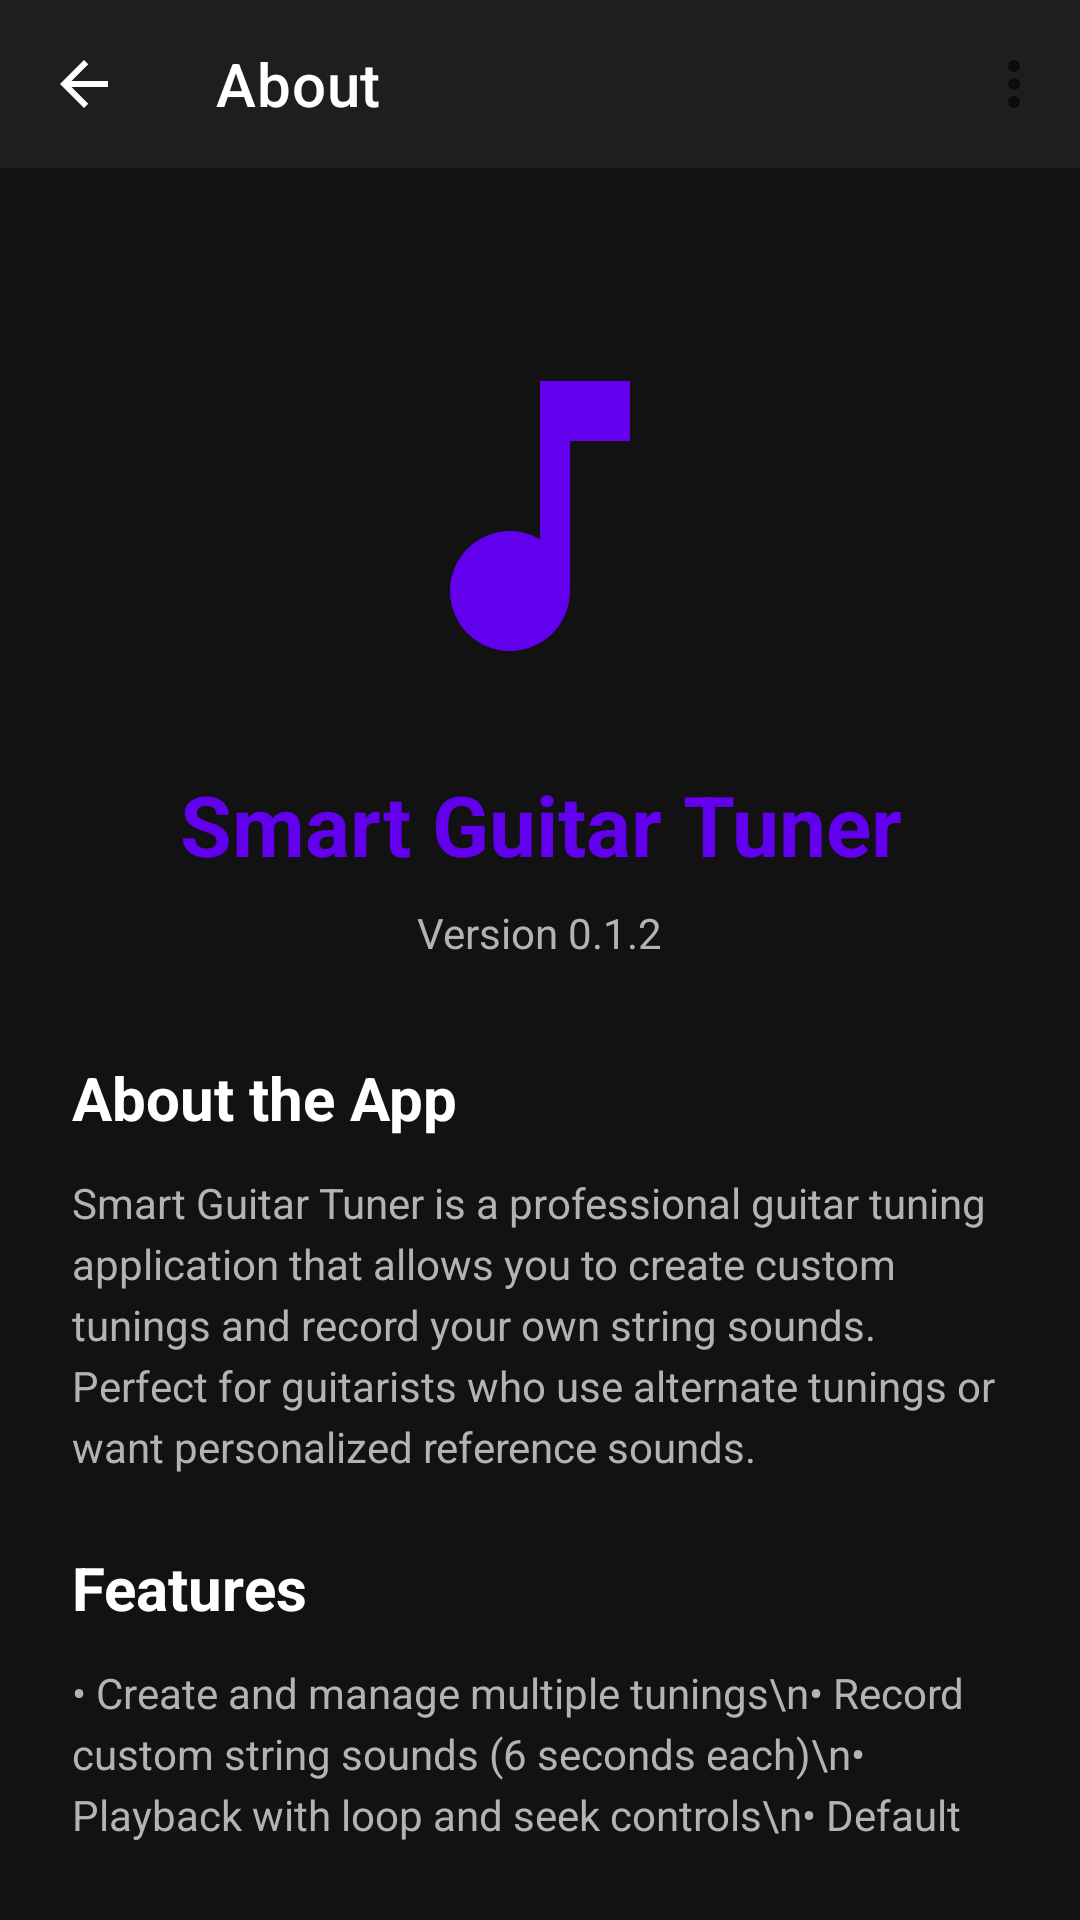

Named icons in this screenshot (1080 x 1920) and their centers, (x,y):
App Icon: (540,516)
